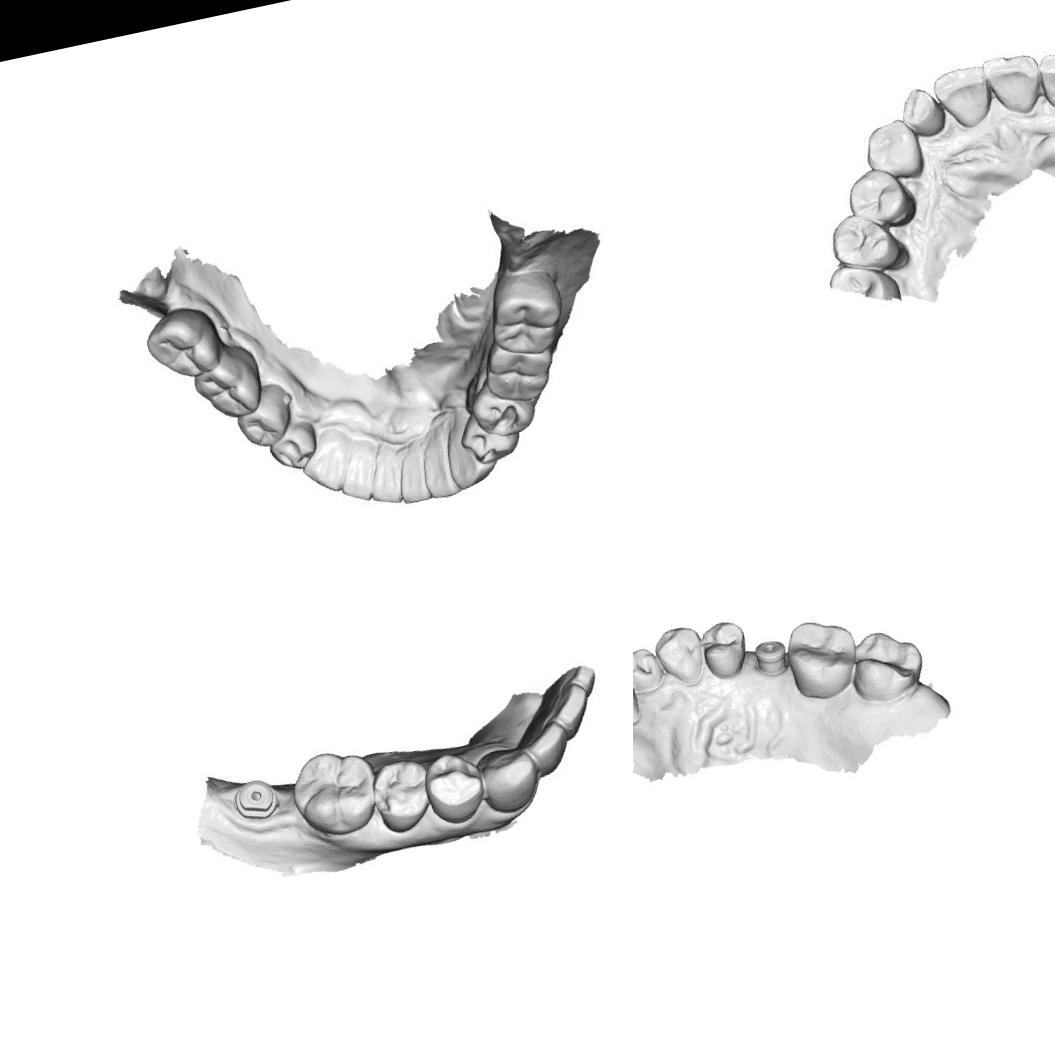canine: (472, 737, 546, 818), (291, 422, 364, 500), (860, 115, 929, 187), (440, 414, 503, 492), (651, 622, 711, 692)
implant: (224, 766, 286, 837), (751, 636, 790, 680)
incisor: (979, 46, 1050, 122), (928, 61, 997, 133), (330, 438, 384, 508), (545, 678, 604, 742), (895, 81, 948, 143), (523, 717, 578, 776), (414, 433, 461, 502), (360, 442, 406, 510), (390, 447, 434, 508), (633, 643, 668, 698), (1033, 44, 1055, 111)
molar: (477, 261, 573, 364), (288, 744, 378, 842), (138, 300, 227, 386), (844, 622, 931, 708), (779, 622, 865, 705), (186, 339, 268, 426), (476, 331, 558, 408)
premolar: (420, 746, 494, 827), (824, 204, 902, 280), (228, 378, 300, 453), (842, 161, 915, 233), (370, 754, 433, 834), (466, 376, 541, 442), (454, 406, 528, 470), (696, 622, 753, 684), (263, 417, 323, 475)
